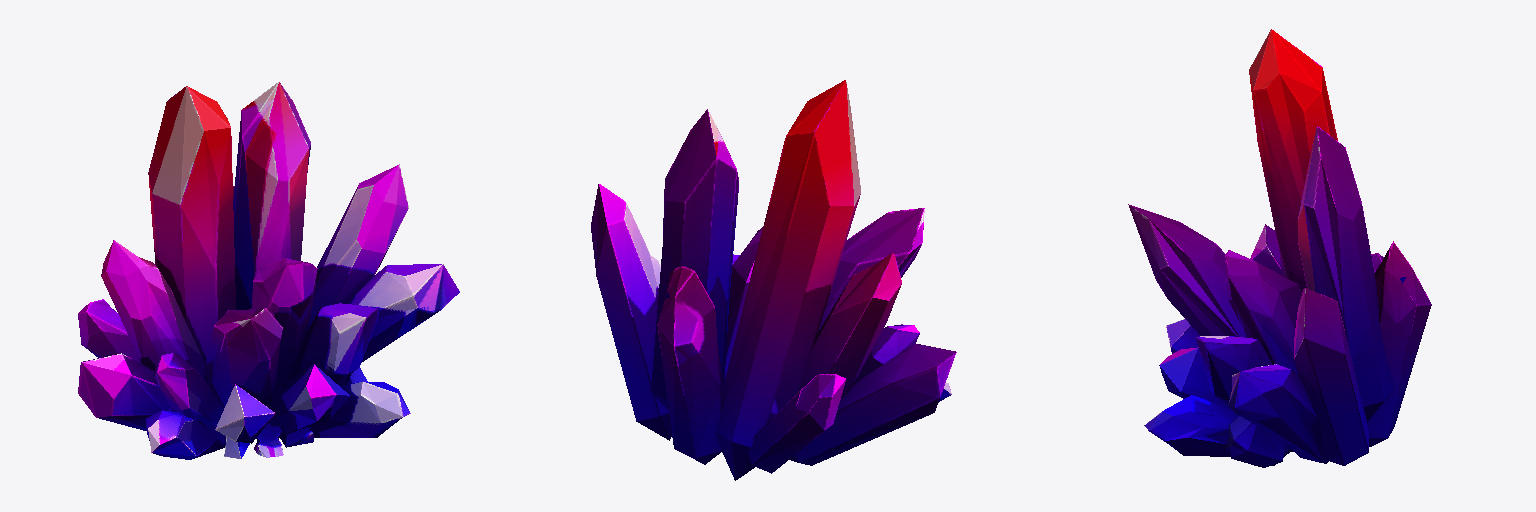
3 renders of one model, left to right at view 1: azimuth 30°, elevation 25°; view 2: azimuth 150°, elevation 25°; view 3: azimuth 270°, elevation 25°, orthographic.
Visible parts, largest first — view 1: object_0; view 2: object_0; view 3: object_0.
Boxes of the visible parts, <box> form: object_0: <box>78,82,459,459</box>; object_0: <box>591,80,956,480</box>; object_0: <box>1128,29,1431,467</box>.
Size of the model in its own units: 5.15 by 5.18 by 3.73.
1 materials, 1 textured.